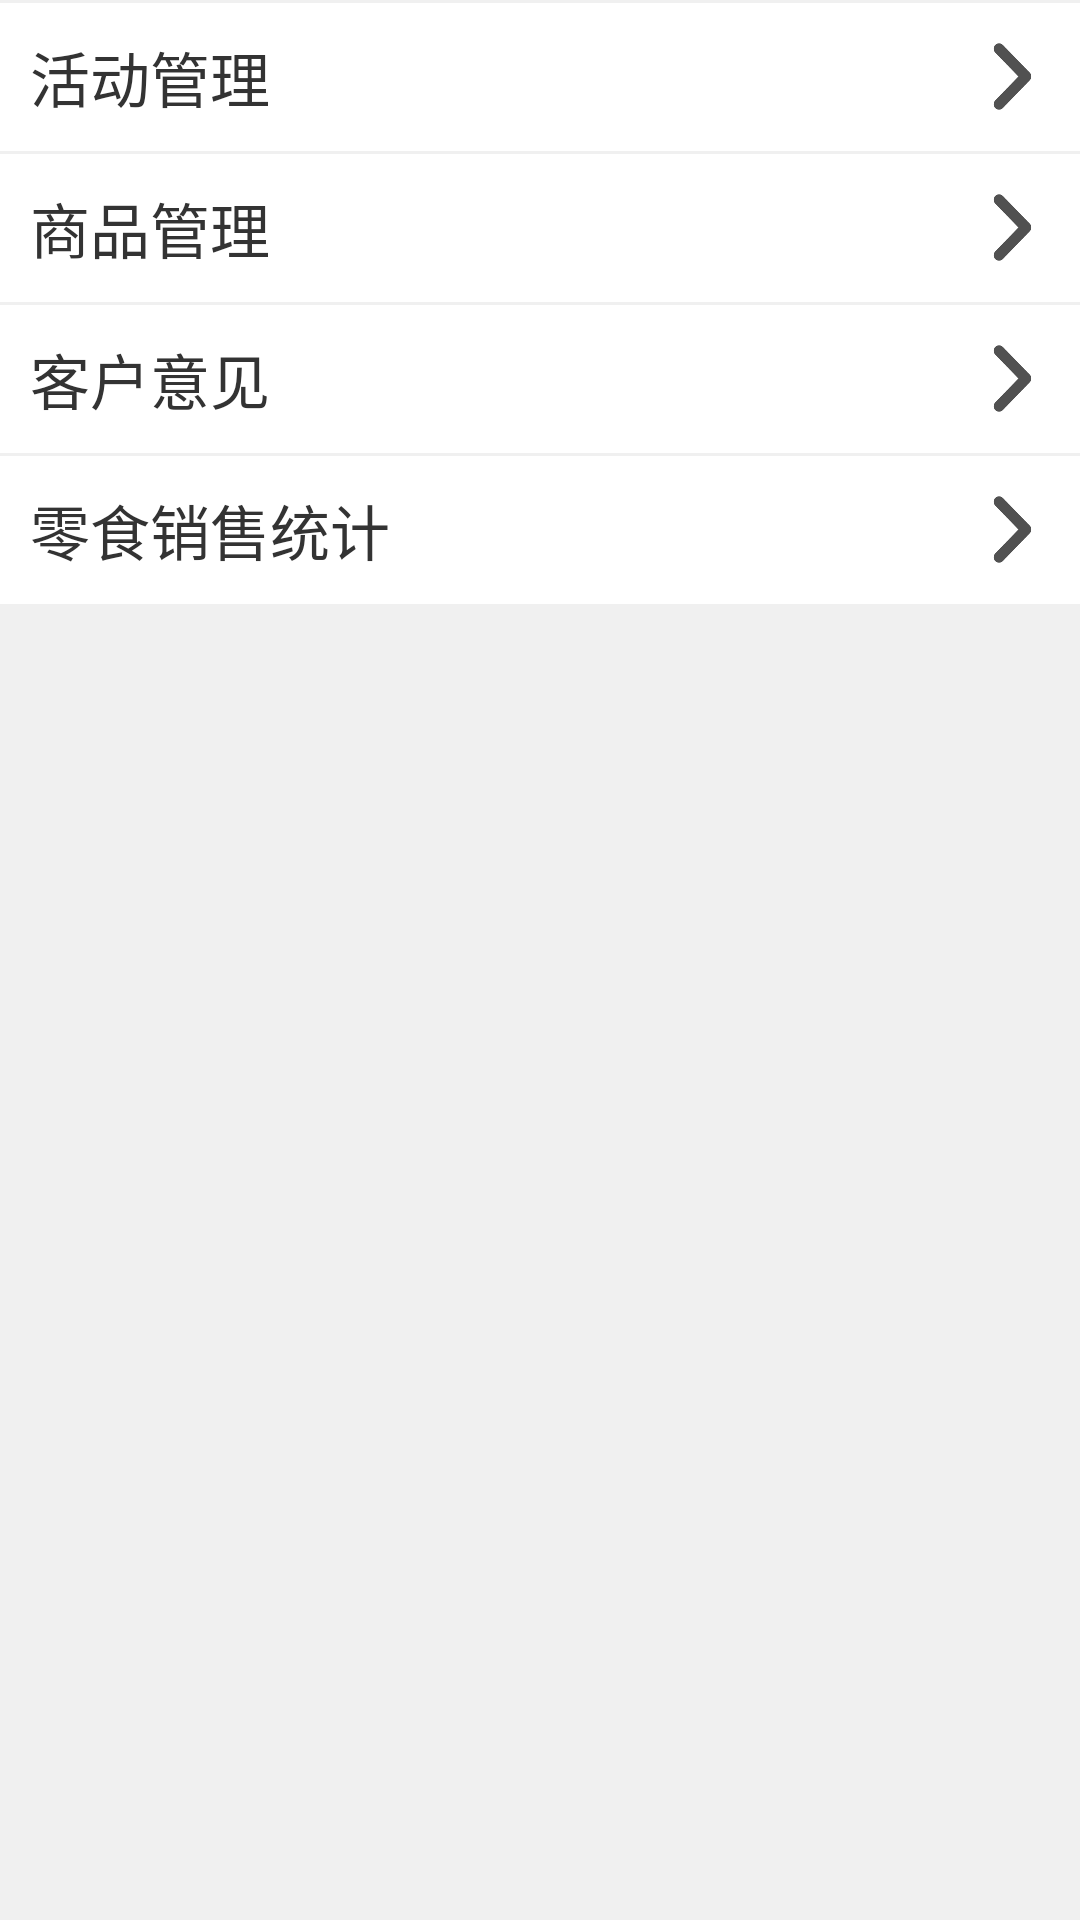

Icons on this 1080*1920 Android screen, each with the point to tap as (x,y):
right: (1012,76), (1012,227), (1012,378), (1012,529)
